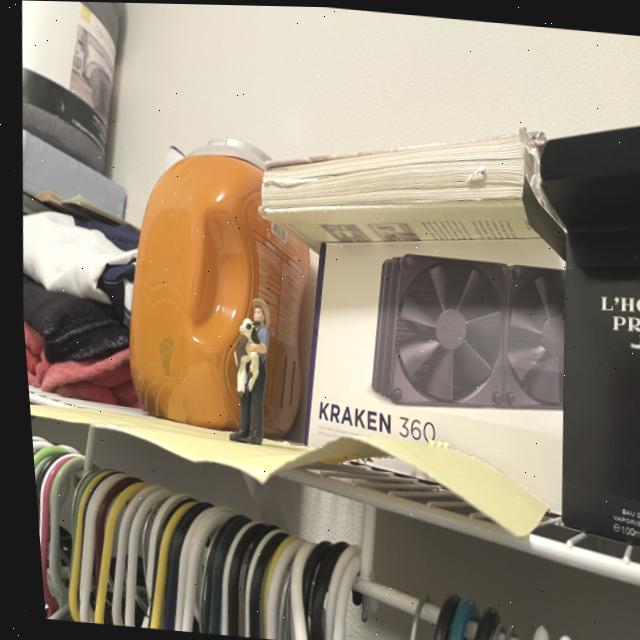cow: (228, 317, 257, 397)
person: (232, 296, 267, 442)
